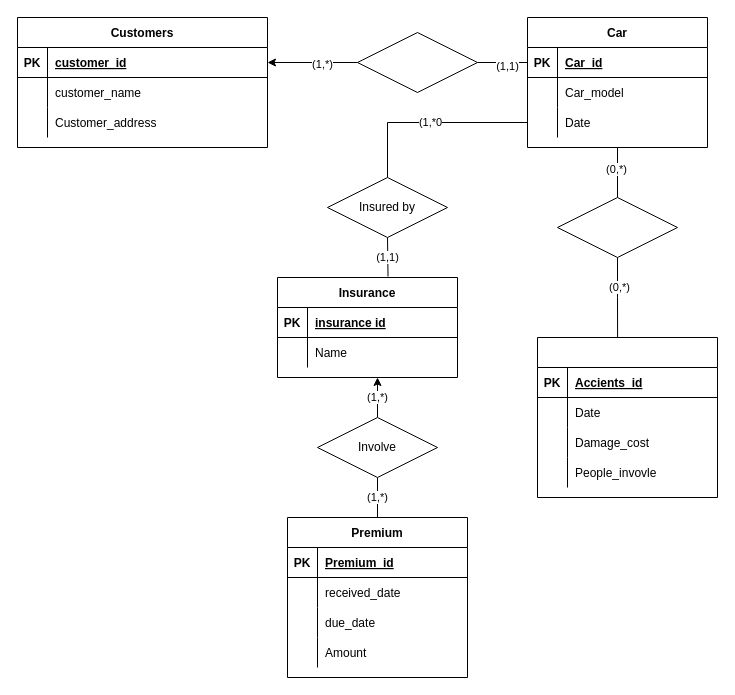
The diagram is 735 pixels wide and 695 high, and some of its shapes have lost their labels. Here are the shapes that lost their labels. From the top down, the box of each, then its label:
(356, 32, 478, 92): Owner
(556, 196, 678, 258): Have
(536, 336, 718, 498): Accidents
